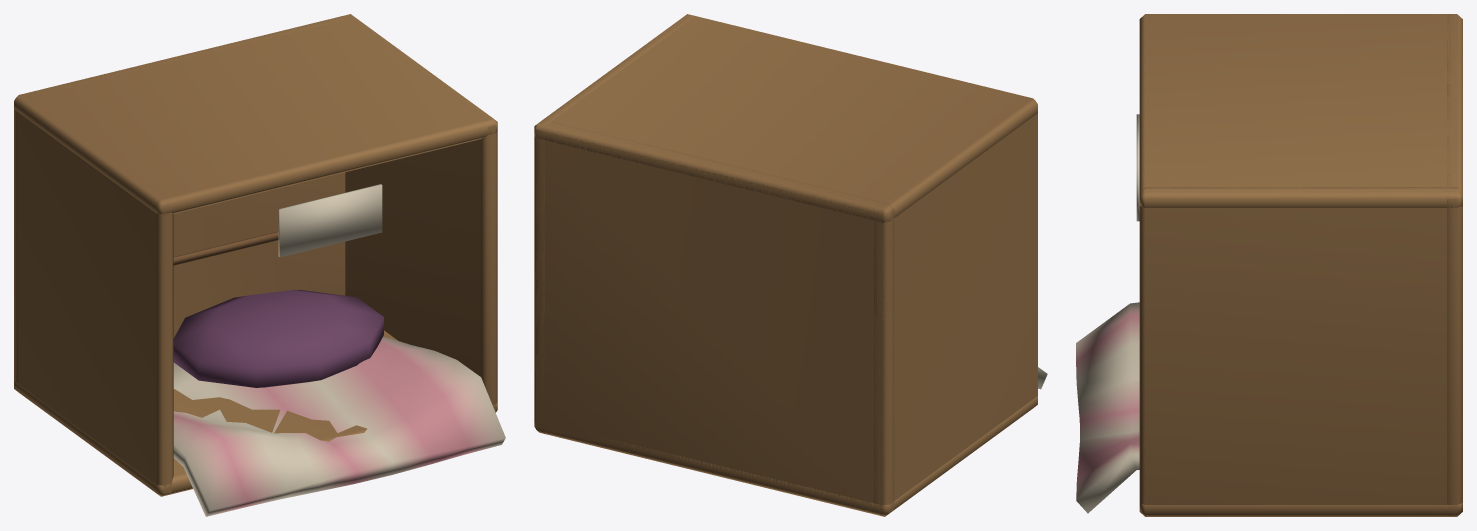
The model's file is cat_nook.glb.
3 renders of one model, left to right at view 1: azimuth 30°, elevation 25°; view 2: azimuth 150°, elevation 25°; view 3: azimuth 270°, elevation 25°, orthographic. The views are drawn at different scales.
Parts seen in each view (by area): view 1: cat_nook; view 2: cat_nook; view 3: cat_nook.
Part boxes in pixels (x1=…): cat_nook: x1=14, y1=14, x2=505, y2=516; cat_nook: x1=534, y1=14, x2=1047, y2=516; cat_nook: x1=1076, y1=14, x2=1462, y2=516.
Size of the model in its own units: 0.6 by 0.5122 by 0.5384.
